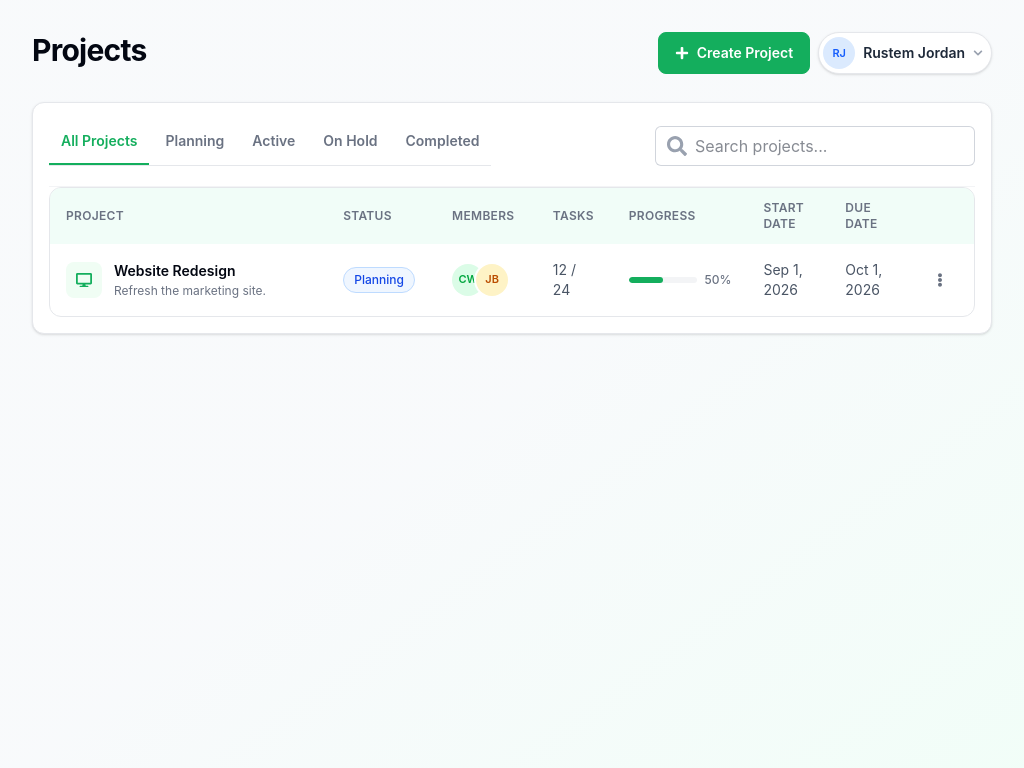
Test case: Projects page › deletes the selected project after modal confirmation
The image size is (1024, 768).
Click the button named "Actions for Website Redesign" at (940, 280), box left=922, top=262, right=958, bottom=298
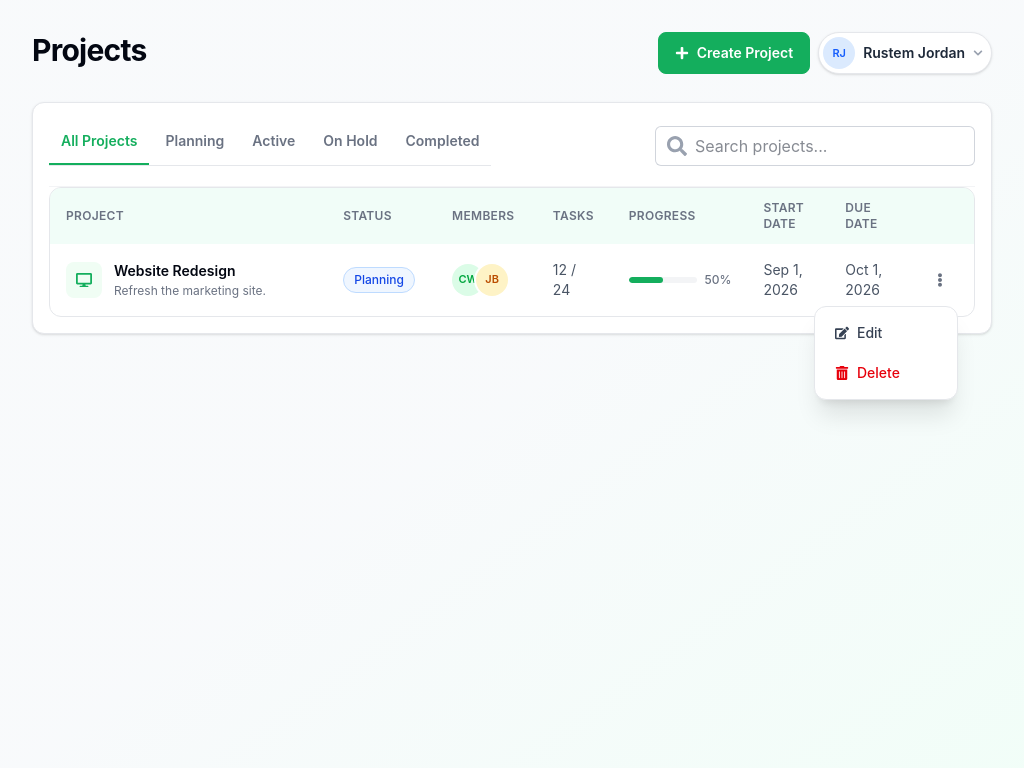
Click the menu item "Delete" at (886, 373), box left=823, top=355, right=949, bottom=391
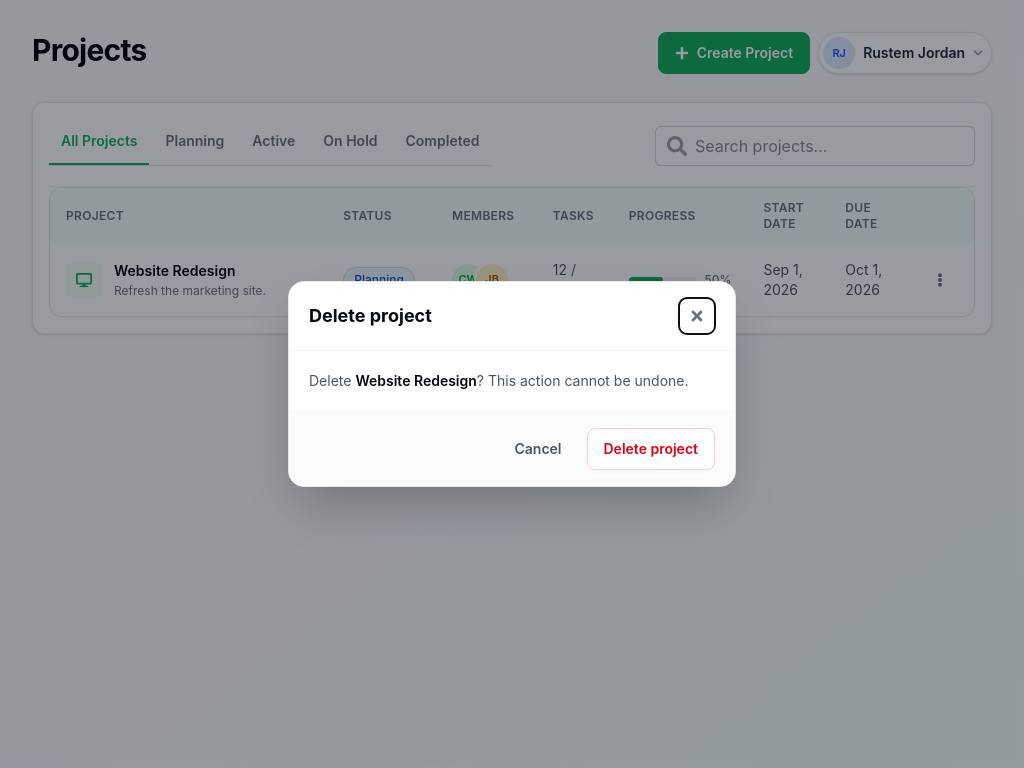
Click the button "Delete project" at (651, 449), box left=586, top=428, right=715, bottom=470
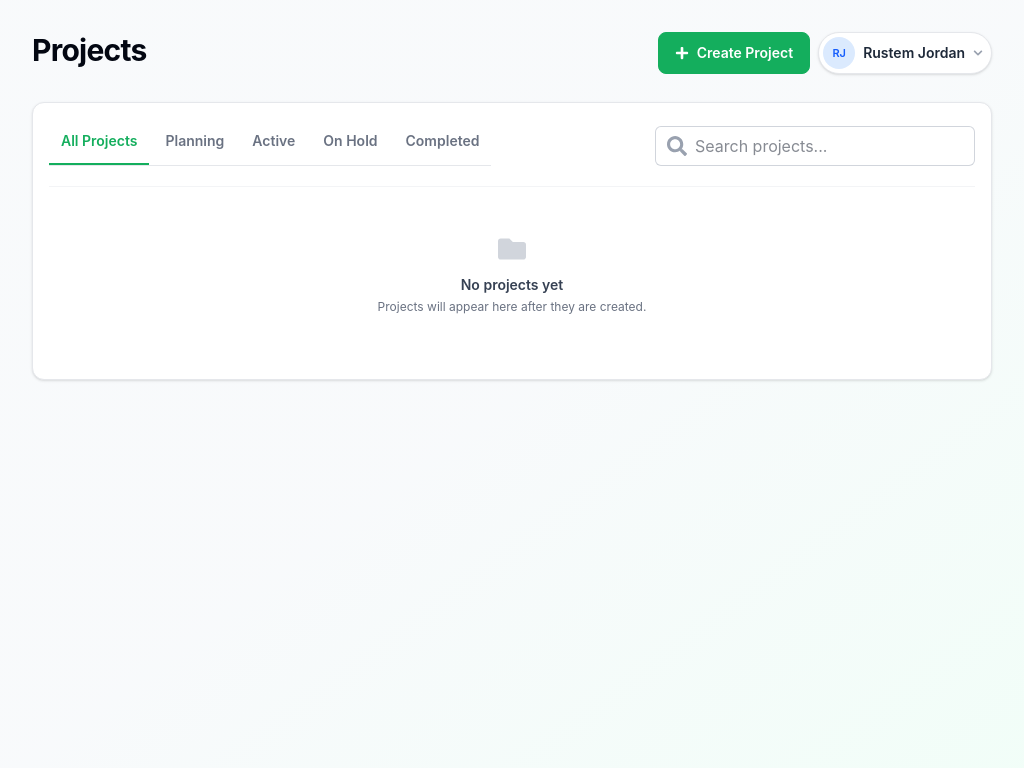
Result: the button "Website Redesign" is gone
